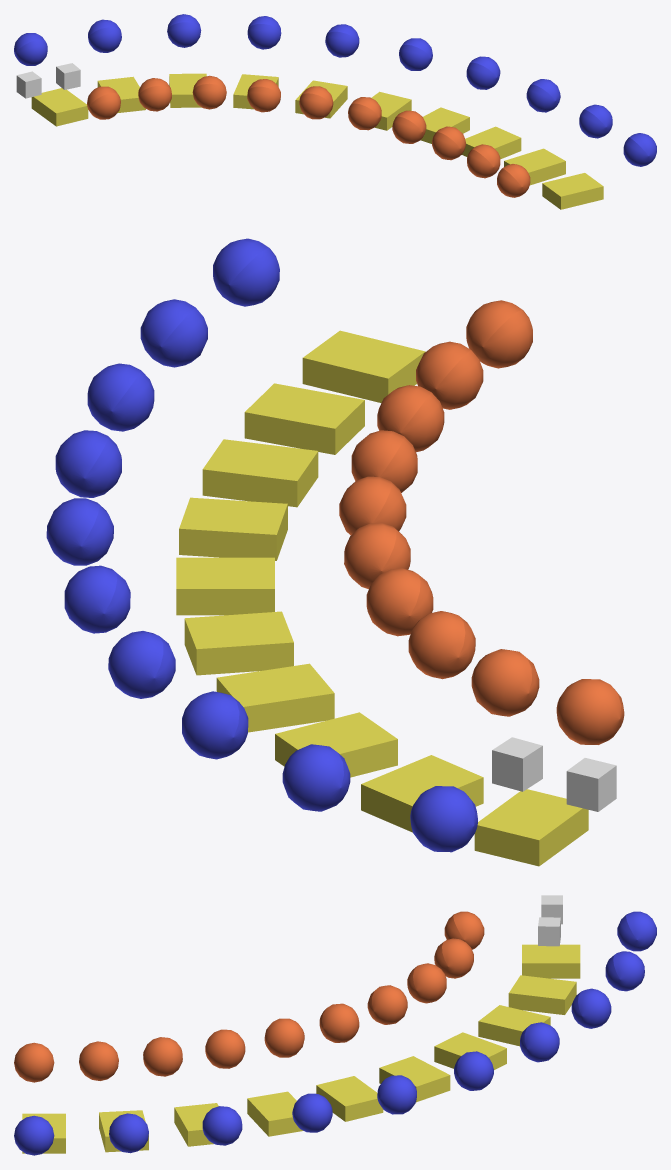
File: test_cinema.glb
3 views of the same model, one above another, from view 1: azimuth 30°, elevation 25°; view 2: azimuth 150°, elevation 25°; view 3: azimuth 270°, elevation 25° (orthographic). The views are drawn at different scales.
Visible parts, largest first — view 1: centro, sinistra, destra, Cube.1, Cube; view 2: centro, destra, sinistra, Cube, Cube.1; view 3: centro, destra, sinistra, Cube, Cube.1.
Part boxes in pixels (x1,y1,x2,y2): centro: (31,73,603,209); sinistra: (87,75,530,197); destra: (14,14,656,166); Cube.1: (16,71,41,98); Cube: (56,63,80,89); centro: (176,330,588,866); destra: (46,238,477,852); sinistra: (339,300,624,744); Cube: (492,737,542,791); Cube.1: (566,758,616,811); centro: (22,944,580,1153); destra: (14,911,656,1155); sinistra: (14,911,484,1082); Cube: (538,917,560,946); Cube.1: (541,895,562,924).
Bounding box in the file's own units: 5214 × 611 × 5931.
